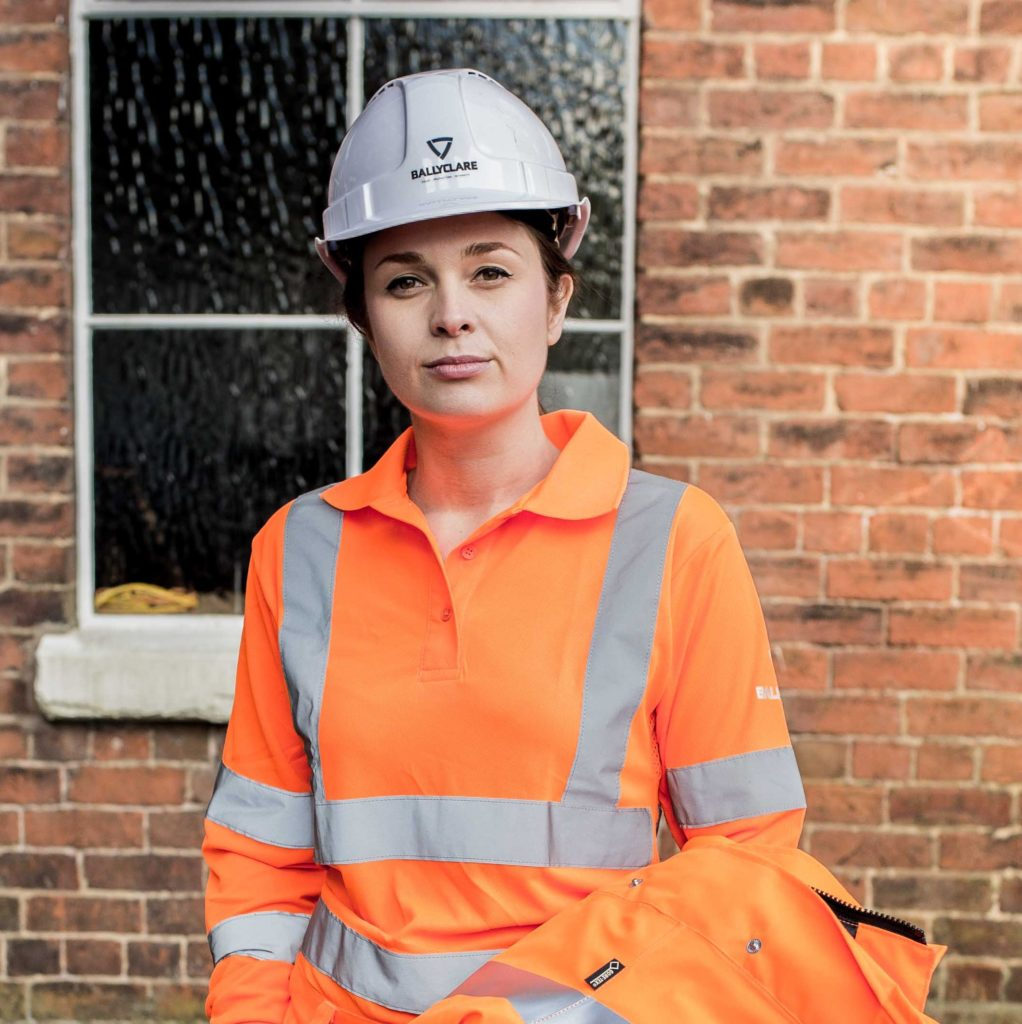Hard Hat: (307, 70, 596, 231)
High Viz: (227, 447, 786, 1011)
